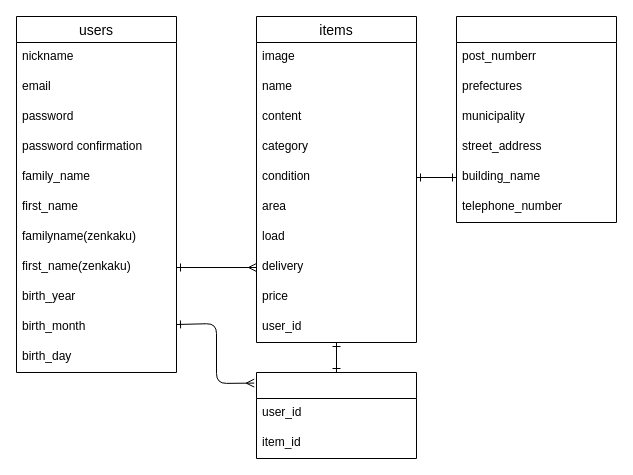
Image size: 633x475. Some labels were removed from this diagram. The shapes that lost their labels are listed below. From the top down, each one's box as (x1, y1, x2, y2) in pixels, then its label:
(456, 16, 616, 222): shipping_addresses
(256, 372, 416, 458): purchase_records
